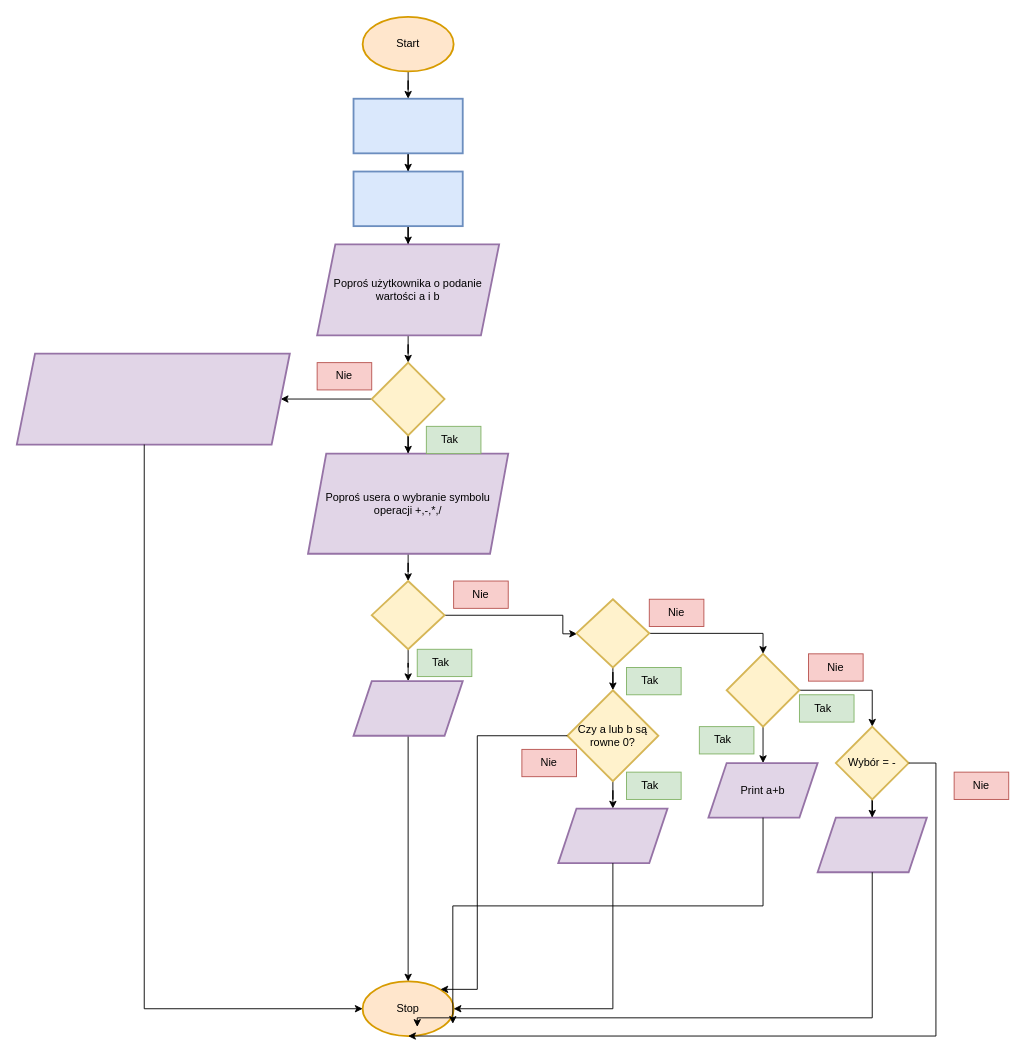
Some shapes in this 1025 by 1059 pixel diagram are drawn without their labels. Each missing label, with the centre of its shape:
If a & b not empty: pixel 407 398
Print "Wartośc a oraz b nie mogą być puste": pixel 152 398
Print a -b: pixel 871 844
Print a*b: pixel 407 708
Print a/b: pixel 612 835
Wybór = *: pixel 407 615
Wybór = +: pixel 762 689
Wybór = /: pixel 612 633
Zmienna a oraz zmienna b: pixel 407 125
Zmienna wybór wybór = input("podaj symbol operacji"): pixel 407 198
